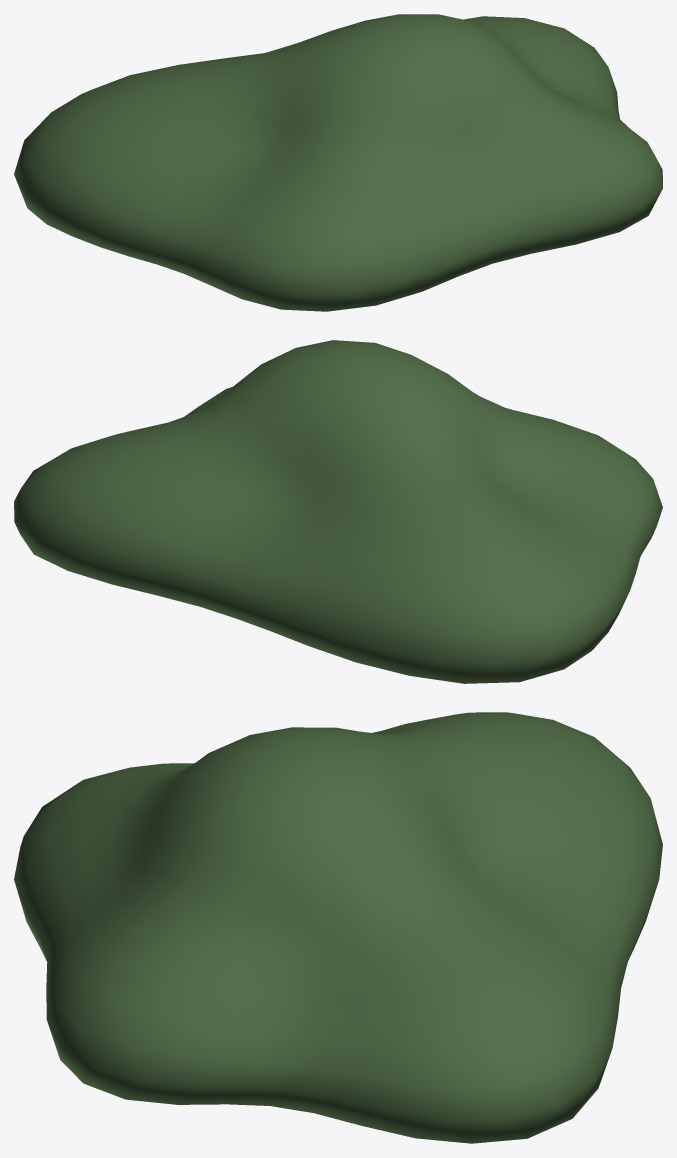
Rendered from Nature_StylizedBoulder_Moss.glb.
The picture shows the model from 3 angles, top to bottom: view 1: azimuth 30°, elevation 25°; view 2: azimuth 150°, elevation 25°; view 3: azimuth 270°, elevation 25°; orthographic projection. The views are drawn at different scales.
Parts seen in each view (by area): view 1: BoulderMoss; view 2: BoulderMoss; view 3: BoulderMoss.
Boxes of the visible parts, box(x1,y1,x2,y2) form: BoulderMoss: box(14, 14, 662, 311); BoulderMoss: box(14, 340, 662, 683); BoulderMoss: box(14, 712, 662, 1143).
Bounding box in the file's own units: 2.5 × 0.9955 × 1.88.
